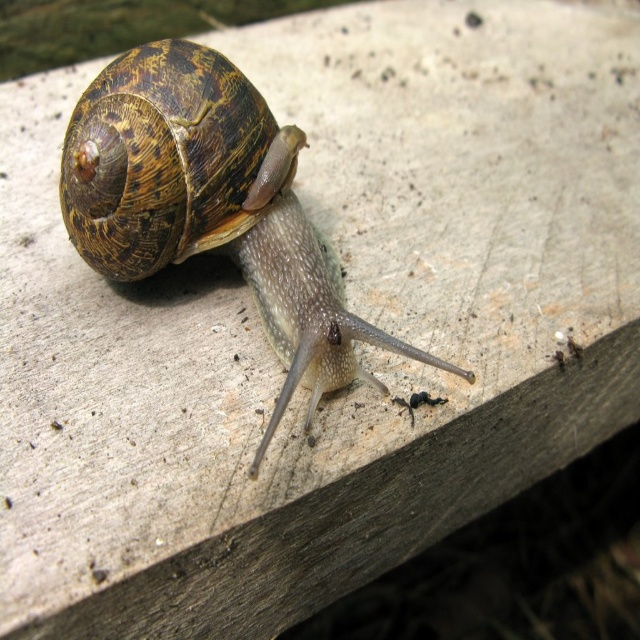Snail: (56, 36, 478, 483)
